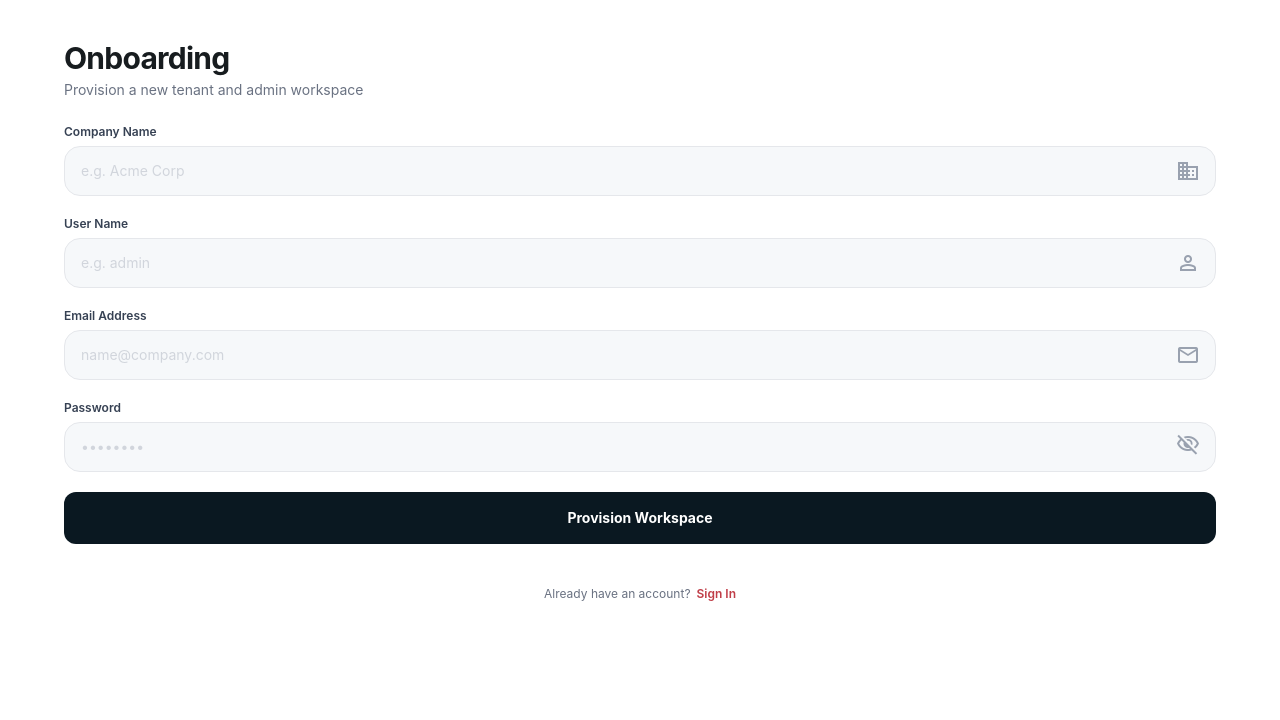
Test: SignupForm Email Verification & Flow Tests › displays backend 409 conflict error when email/username is taken
Step 1. Type "Acme Corp" into the field labelled "Company Name" → [640, 171], box [64, 146, 1216, 196]
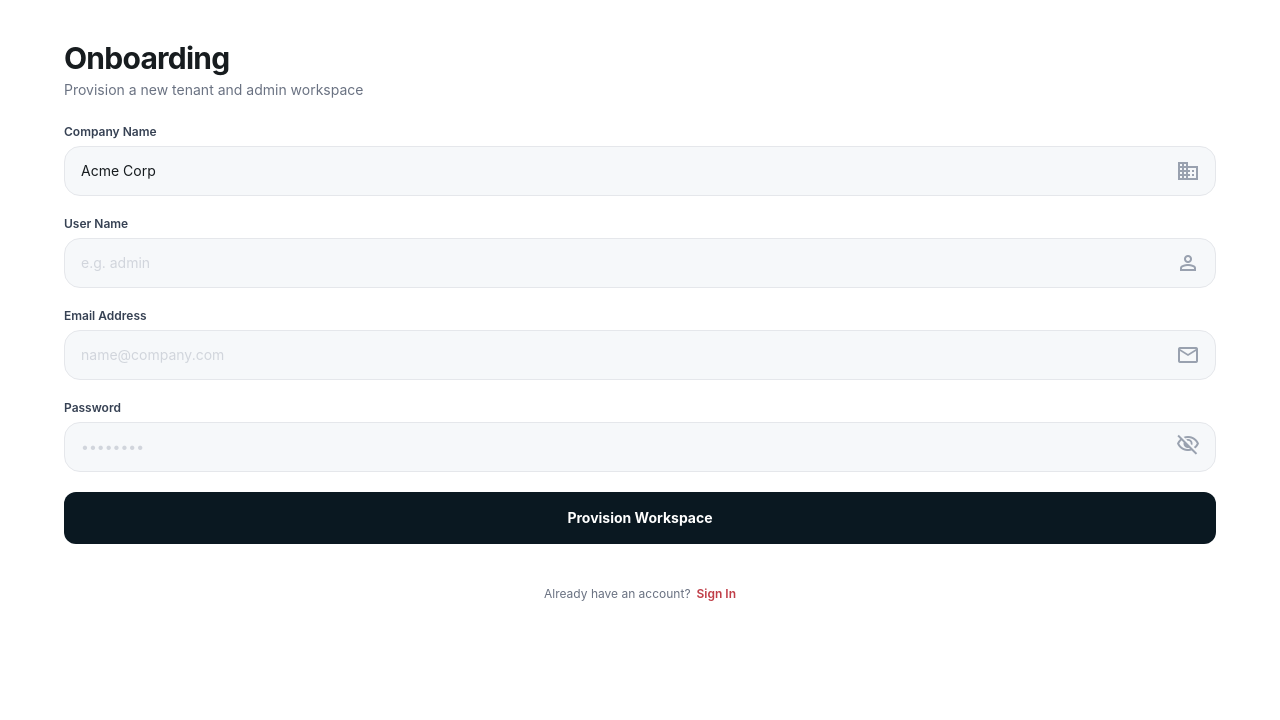
Step 2. Type "admin" into the field labelled "User Name" → [640, 263], box [64, 238, 1216, 288]
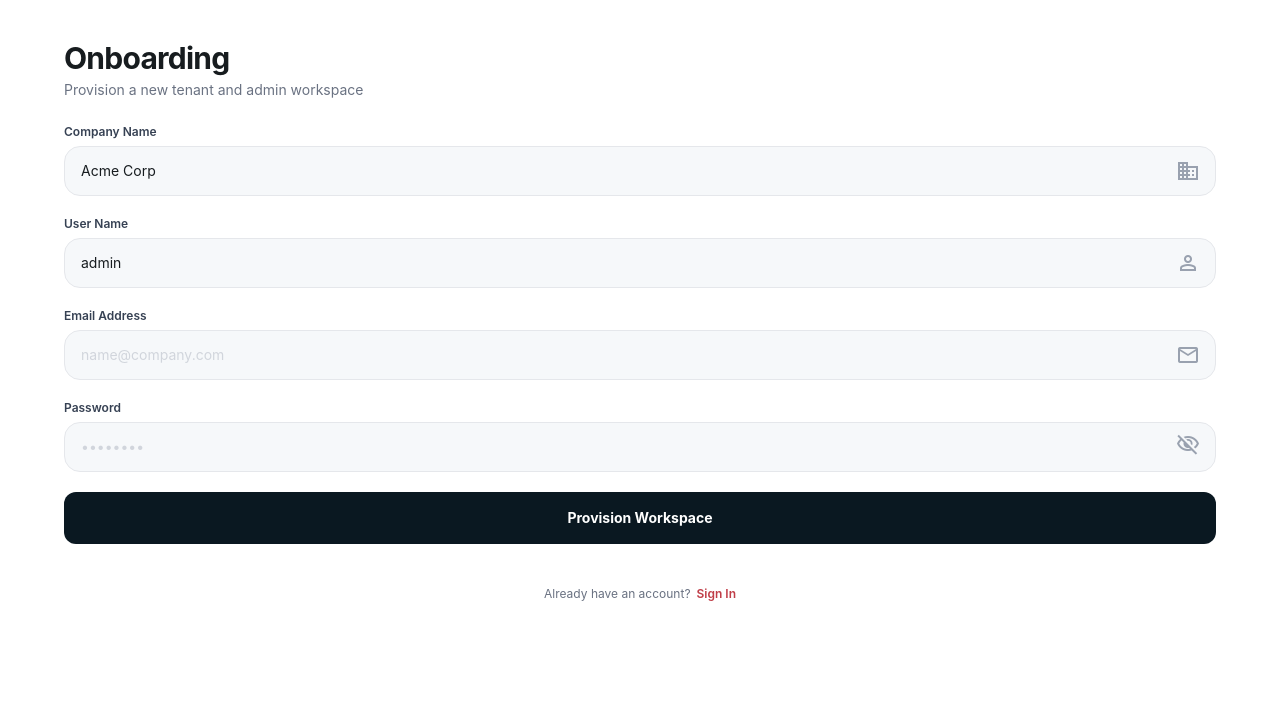
Step 3. Type "admin@acme.com" into the field labelled "Email Address" → [640, 355], box [64, 330, 1216, 380]
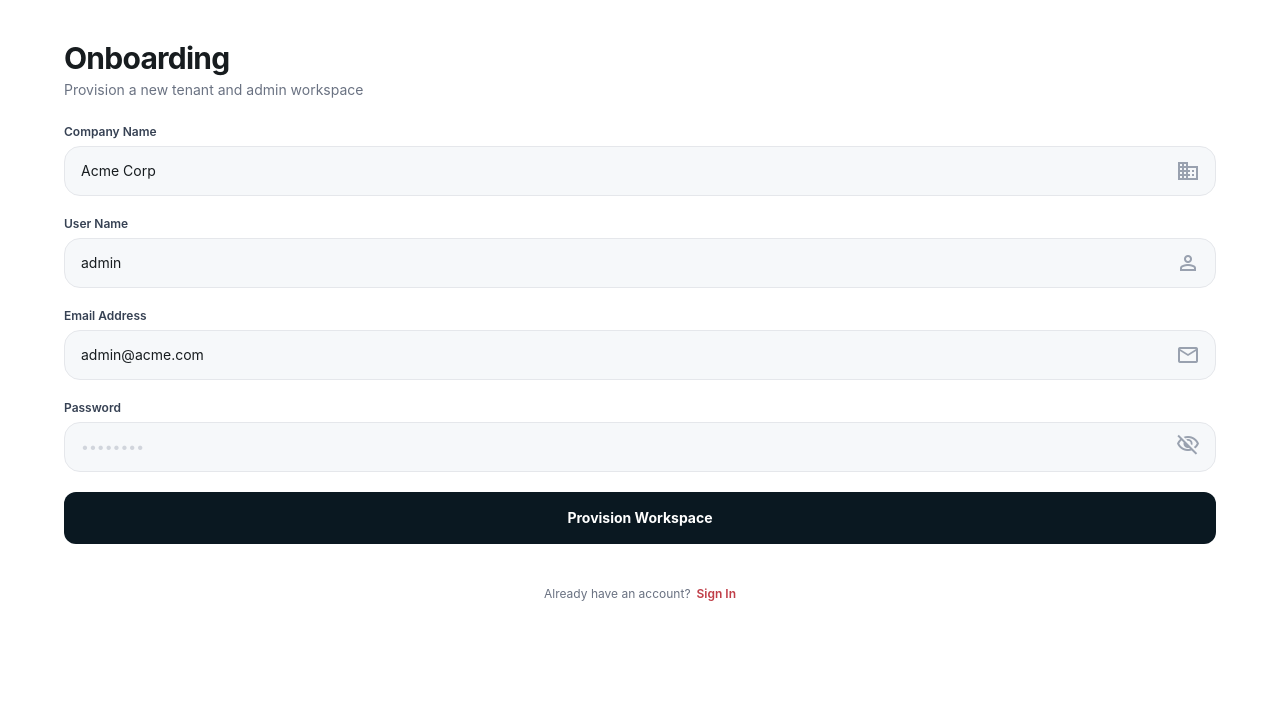
Step 4. Type "Password123!" into the password field labelled "Password" → [640, 447], box [64, 422, 1216, 472]
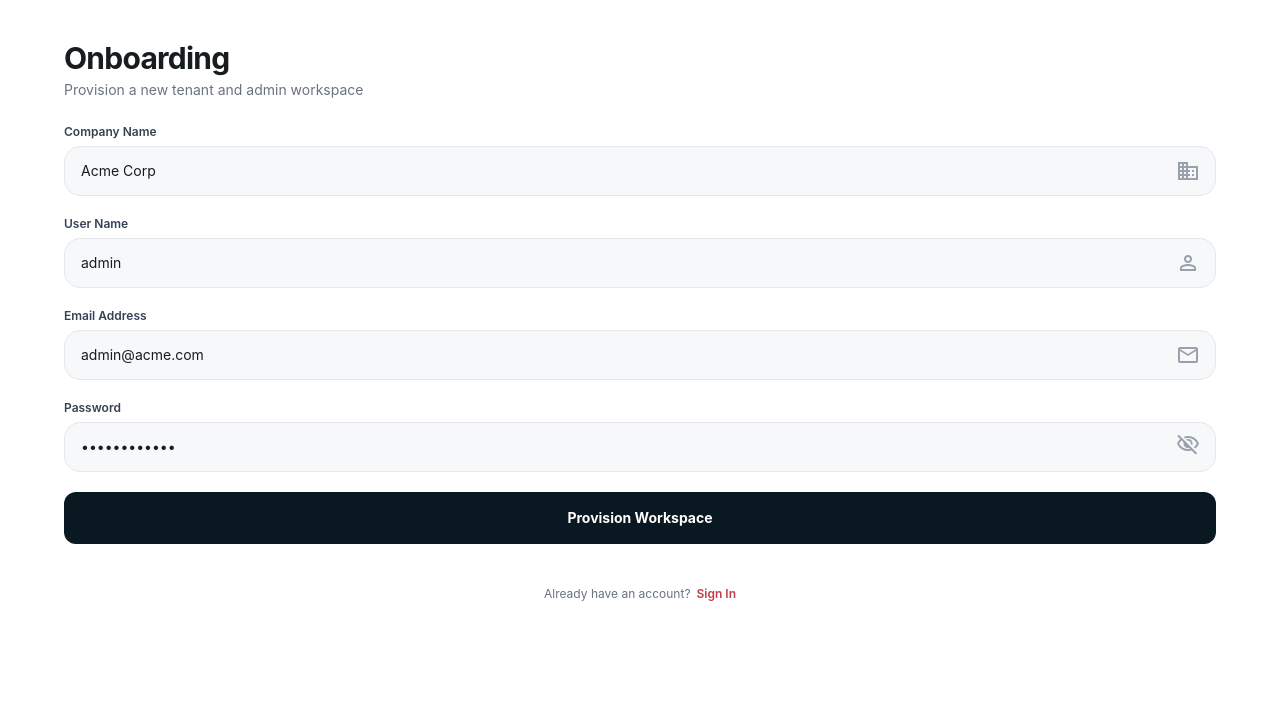
Step 5. Click the button "Provision Workspace" → [640, 518], box [64, 492, 1216, 544]
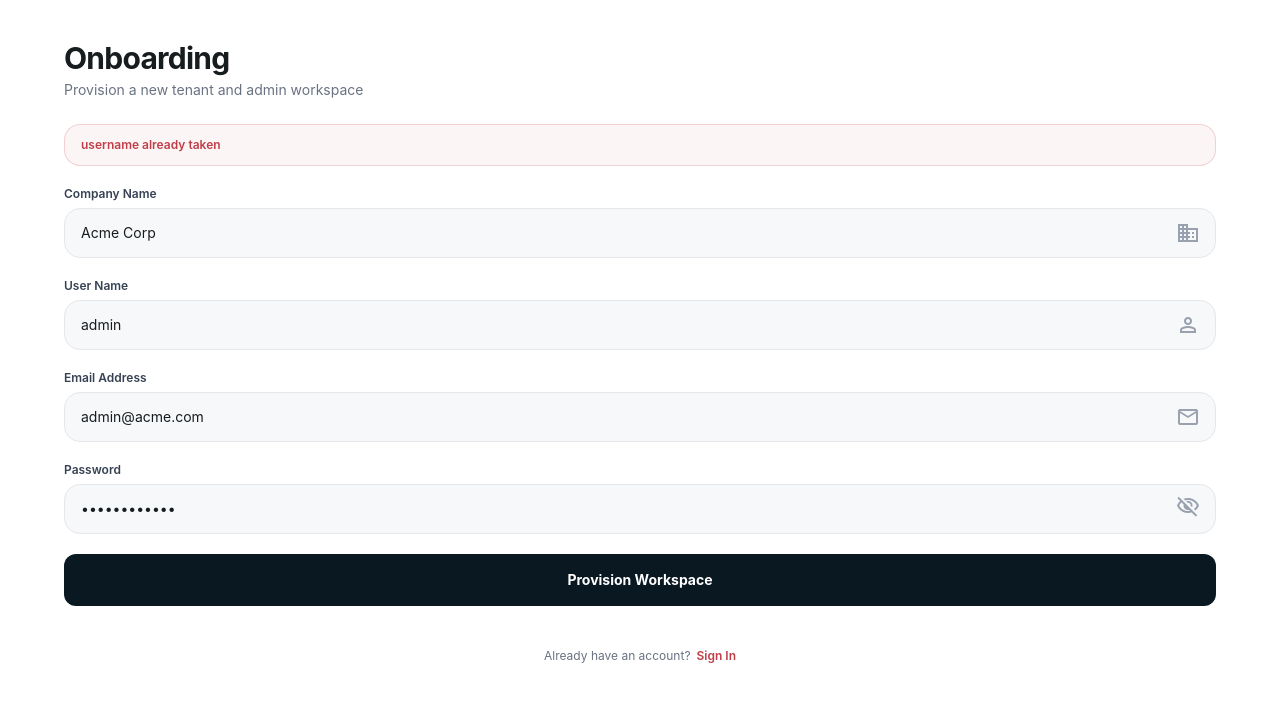
Expected: the text "username already taken" is shown, [64, 124, 1216, 166]
